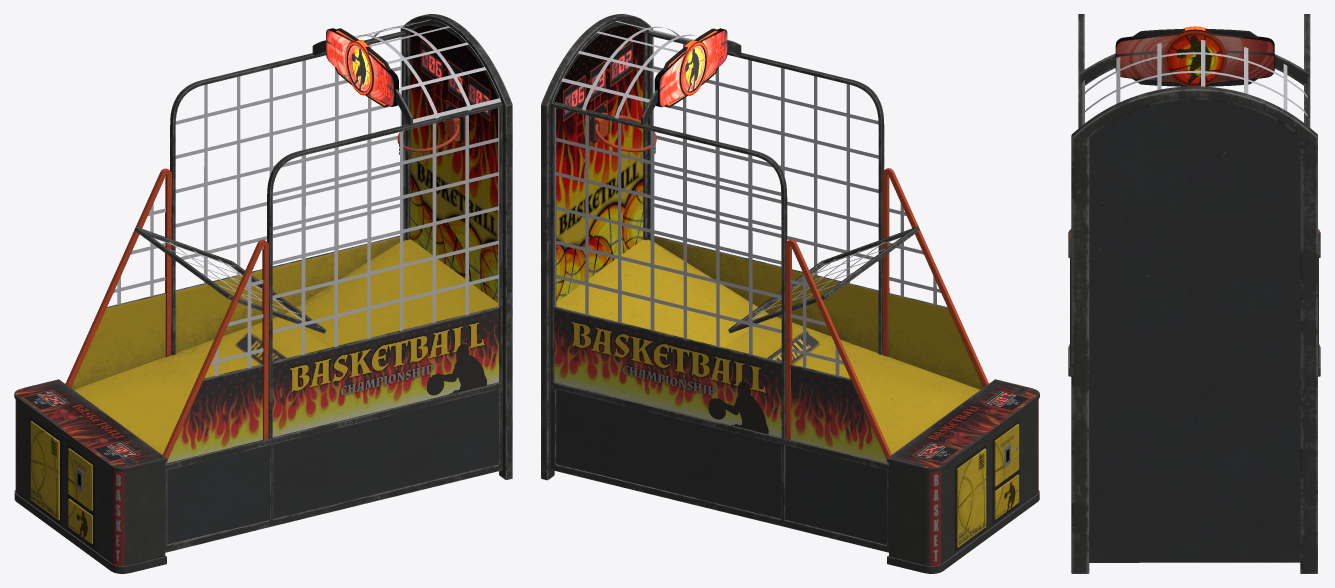
File: SM_Game_Machine_02.fbx
3 views of the same model, side by side, from view 1: azimuth 30°, elevation 25°; view 2: azimuth 150°, elevation 25°; view 3: azimuth 270°, elevation 25° (orthographic). The views are drawn at different scales.
Visible parts, largest first — view 1: SM_Game_Machine_02_LOD0; view 2: SM_Game_Machine_02_LOD0; view 3: SM_Game_Machine_02_LOD0.
Part boxes in pixels (x1,y1,x2,y2): SM_Game_Machine_02_LOD0: [14, 14, 512, 573]; SM_Game_Machine_02_LOD0: [541, 14, 1039, 573]; SM_Game_Machine_02_LOD0: [1068, 14, 1320, 573].
Size of the model in its own units: 299 by 141 by 302.
3 materials, 3 textured.
